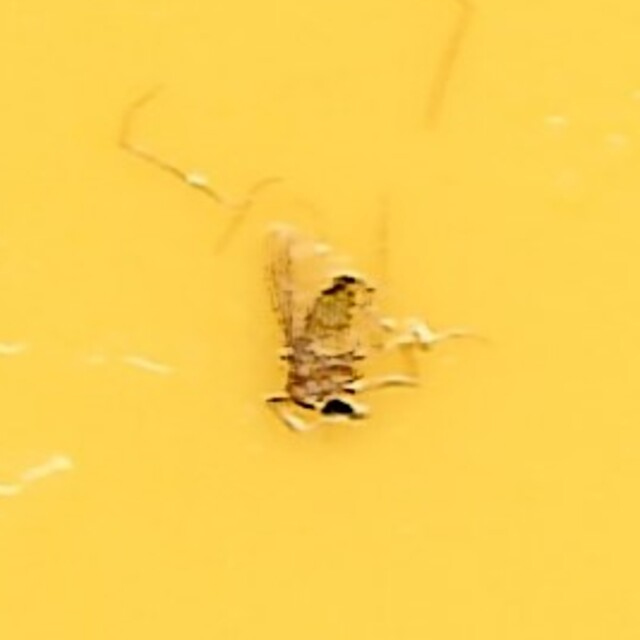Nematocera: (240, 218, 400, 422)
